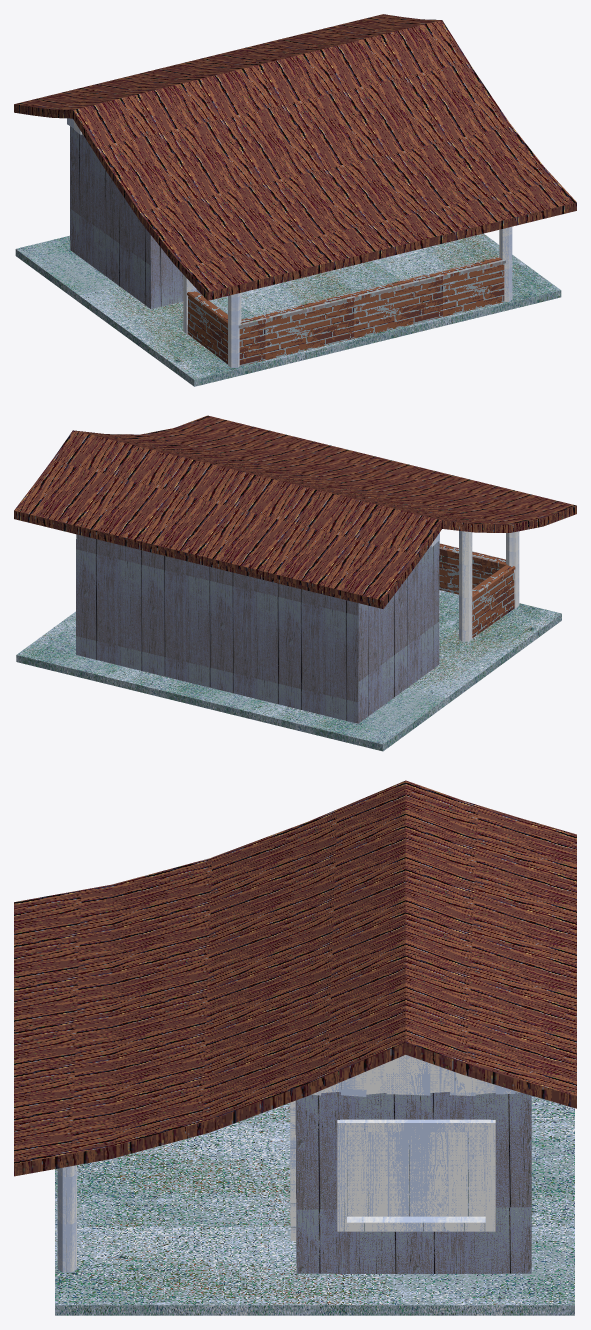
File: casa 1 blender final.fbx
3 renders of one model, top to bottom at view 1: azimuth 30°, elevation 25°; view 2: azimuth 150°, elevation 25°; view 3: azimuth 270°, elevation 25°, orthographic. The views are drawn at different scales.
Parts seen in each view (by area): view 1: Cube.001, Cube.004, Cube.005, Cube, Cube.006, Cylinder.001, Cylinder; view 2: Cube.001, Cube, Cube.004, Cube.006, Cube.005, Cylinder.002, Cylinder.001; view 3: Cube.001, Cube.004, Cube, Cube.003, Cube.002, Cylinder, Cube.007.
Boxes of the visible parts, left/top/right/bottom form: Cube.001: left=14, top=14, right=576, bottom=300; Cube.004: left=15, top=233, right=561, bottom=386; Cube.005: left=238, top=257, right=505, bottom=366; Cube: left=70, top=126, right=202, bottom=309; Cube.006: left=187, top=290, right=227, bottom=364; Cylinder.001: left=228, top=293, right=241, bottom=367; Cylinder: left=499, top=226, right=512, bottom=301; Cube.001: left=14, top=415, right=576, bottom=608; Cube: left=76, top=534, right=439, bottom=723; Cube.004: left=16, top=590, right=561, bottom=751; Cube.006: left=472, top=564, right=515, bottom=637; Cube.005: left=439, top=543, right=506, bottom=594; Cylinder.002: left=459, top=531, right=472, bottom=641; Cylinder.001: left=506, top=531, right=519, bottom=608; Cube.001: left=14, top=780, right=576, bottom=1176; Cube.004: left=55, top=1096, right=574, bottom=1315; Cube: left=295, top=1092, right=531, bottom=1273; Cube.003: left=337, top=1119, right=495, bottom=1231; Cube.002: left=312, top=1055, right=520, bottom=1096; Cylinder: left=57, top=1165, right=76, bottom=1272; Cube.007: left=290, top=1100, right=296, bottom=1240.
Size of the model in its own units: 1931 by 942 by 1753.
6 materials, 6 textured.
